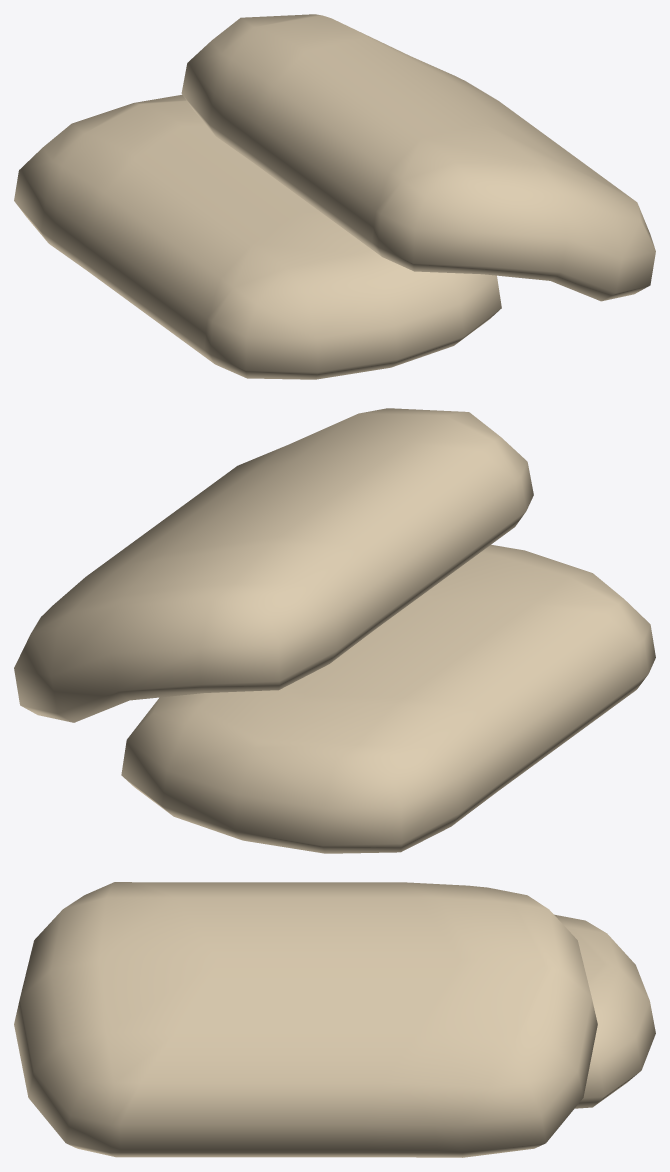
The model's file is Fish Fillet.glb.
3 views of the same model, one above another, from view 1: azimuth 30°, elevation 25°; view 2: azimuth 150°, elevation 25°; view 3: azimuth 270°, elevation 25° (orthographic). The views are drawn at different scales.
Parts seen in each view (by area): view 1: FoodIngredient_FishFillet; view 2: FoodIngredient_FishFillet; view 3: FoodIngredient_FishFillet.
Boxes of the visible parts, left/top/right/bottom form: FoodIngredient_FishFillet: left=14, top=14, right=655, bottom=379; FoodIngredient_FishFillet: left=14, top=408, right=655, bottom=853; FoodIngredient_FishFillet: left=14, top=882, right=655, bottom=1157.
Size of the model in its own units: 0.6622 by 0.2796 by 0.8608.
1 material, 1 textured.
